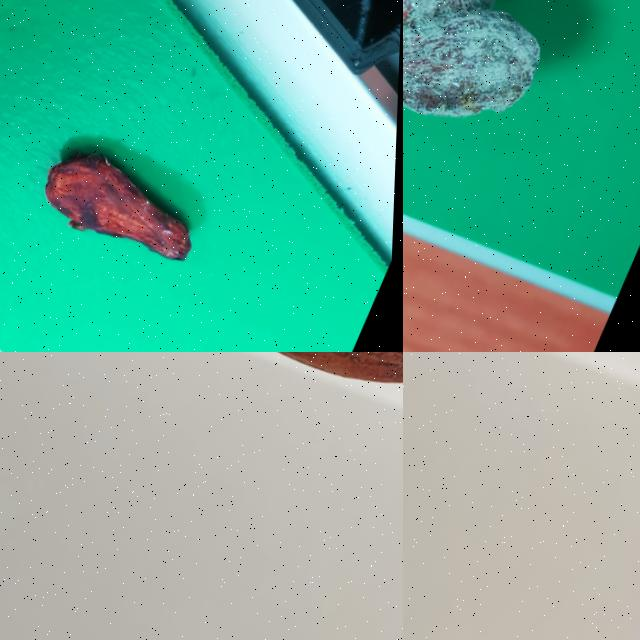Agglomerated_cocoabeans: (403, 0, 639, 228)
Fine_cocoabeans: (22, 352, 402, 463)
Flat_cocoabeans: (0, 73, 325, 351)
